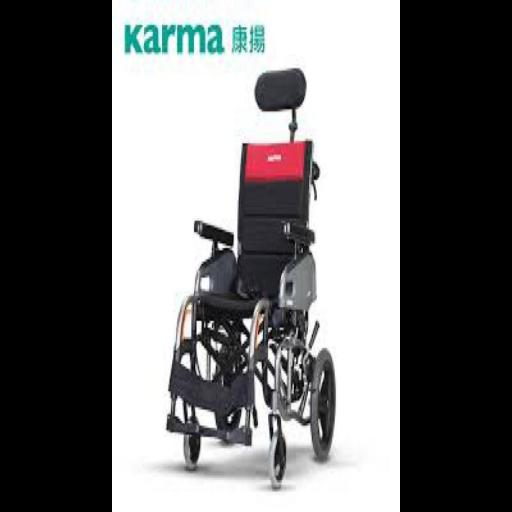cadeira_de_rodas: (167, 68, 336, 489)
